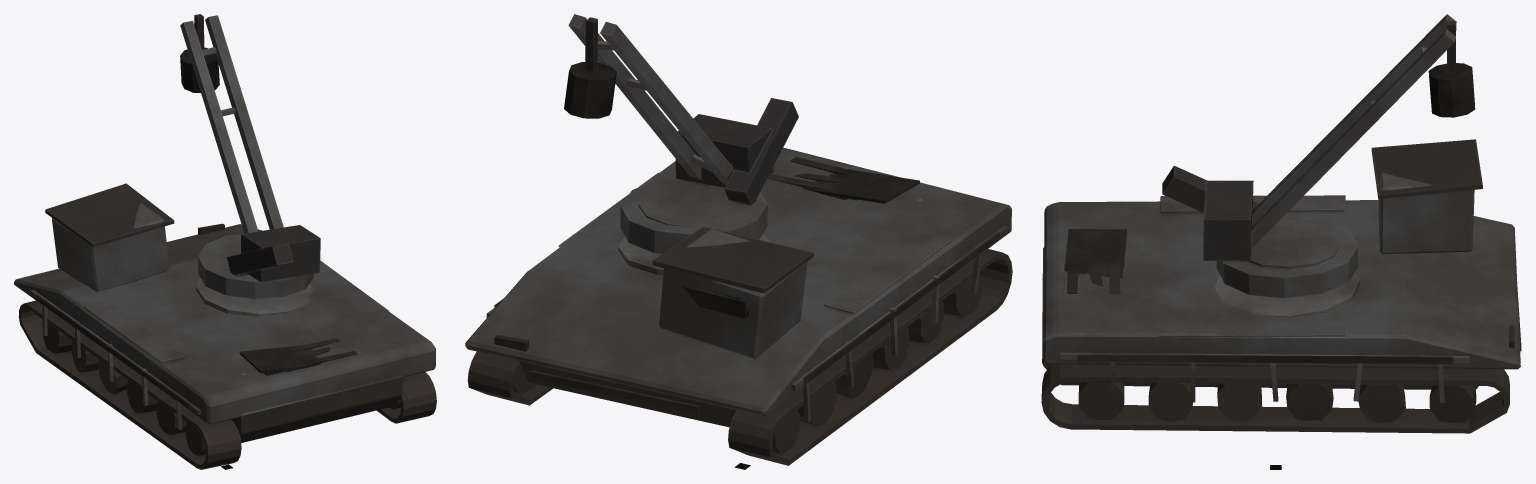
File: chs_forgemaster_wreck.fbx
3 renders of one model, left to right at view 1: azimuth 30°, elevation 25°; view 2: azimuth 150°, elevation 25°; view 3: azimuth 270°, elevation 25°, orthographic. The views are drawn at different scales.
Visible parts, largest first — view 1: base_bar, nano_bar, trackL_bar, trackR_bar; view 2: base_bar, nano_bar, trackL_bar, trackR_bar; view 3: base_bar, trackR_bar, nano_bar.
Boxes of the visible parts, bbox=[...] form: base_bar: bbox=[14, 183, 435, 442]; nano_bar: bbox=[180, 14, 320, 298]; trackL_bar: bbox=[19, 300, 241, 469]; trackR_bar: bbox=[376, 372, 436, 423]; base_bar: bbox=[465, 147, 1011, 427]; nano_bar: bbox=[564, 14, 798, 253]; trackL_bar: bbox=[728, 249, 1012, 465]; trackR_bar: bbox=[467, 351, 552, 405]; base_bar: bbox=[1042, 139, 1521, 402]; trackR_bar: bbox=[1041, 364, 1509, 433]; nano_bar: bbox=[1162, 14, 1475, 298].
Size of the model in its own units: 580 by 896 by 828.
Materials: 2 (2 with a texture image).
